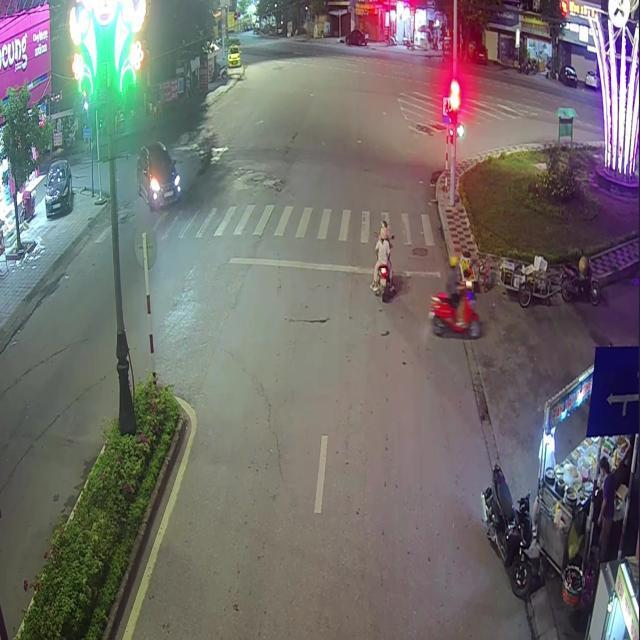motobike: (480, 462, 541, 598), (428, 292, 480, 338), (375, 264, 392, 300)
red_light: (450, 92, 457, 125)
stop_line: (226, 256, 440, 277)
